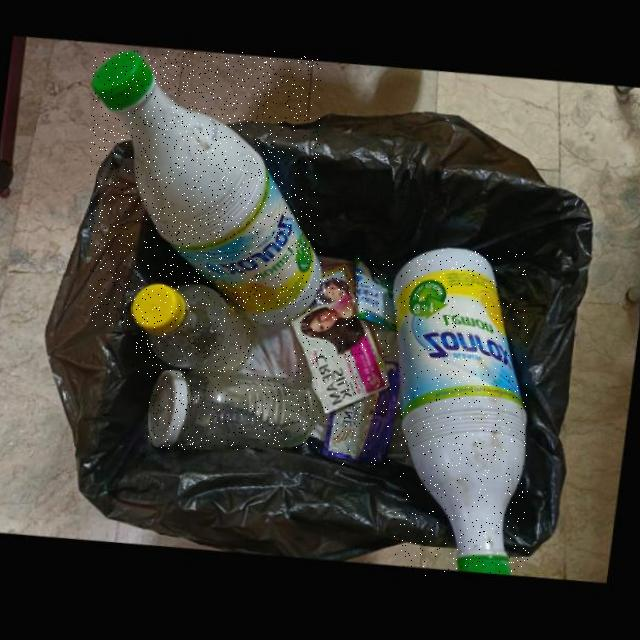glass: (149, 371, 319, 451)
plastic: (91, 51, 321, 326), (394, 250, 529, 577), (132, 284, 255, 374)
wrapper: (293, 297, 391, 415), (324, 362, 401, 466), (356, 259, 398, 332), (311, 265, 357, 309)
